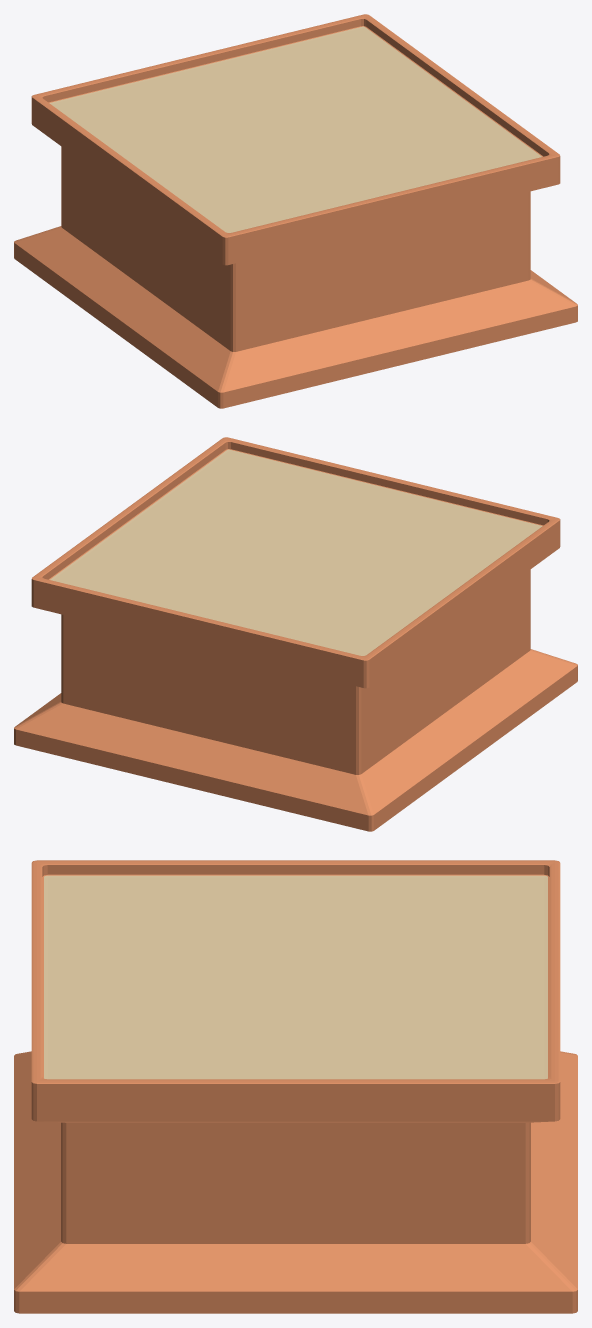
File: KaartspelTafel.fbx
3 views of the same model, one above another, from view 1: azimuth 30°, elevation 25°; view 2: azimuth 150°, elevation 25°; view 3: azimuth 270°, elevation 25° (orthographic). The views are drawn at different scales.
Parts seen in each view (by area): view 1: Cube; view 2: Cube; view 3: Cube.
Boxes of the visible parts, box(x1,y1,x2,y2) form: Cube: box(14, 14, 577, 408); Cube: box(14, 437, 577, 831); Cube: box(14, 860, 577, 1313).
Bounding box in the file's own units: 859 × 375 × 859.
